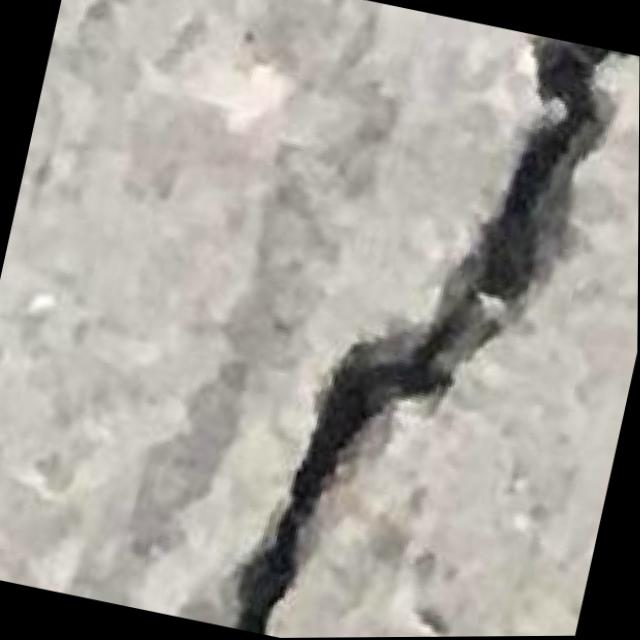Crack: (198, 0, 629, 639)
